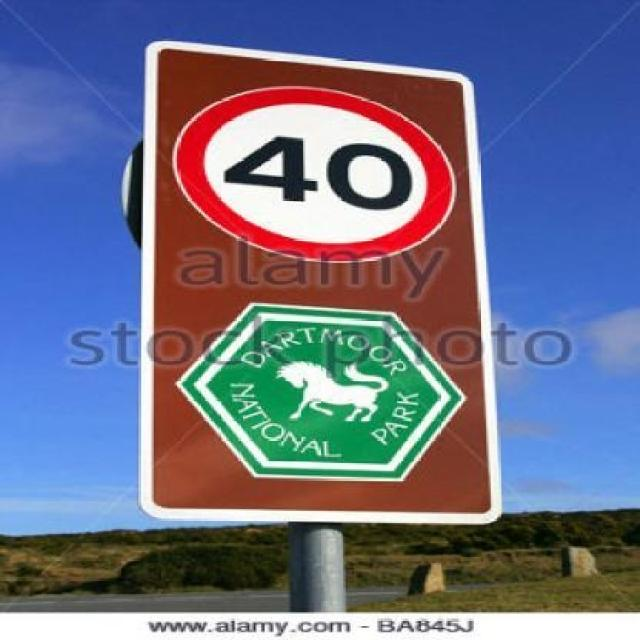forb_speed_over_40: (179, 86, 453, 260)
